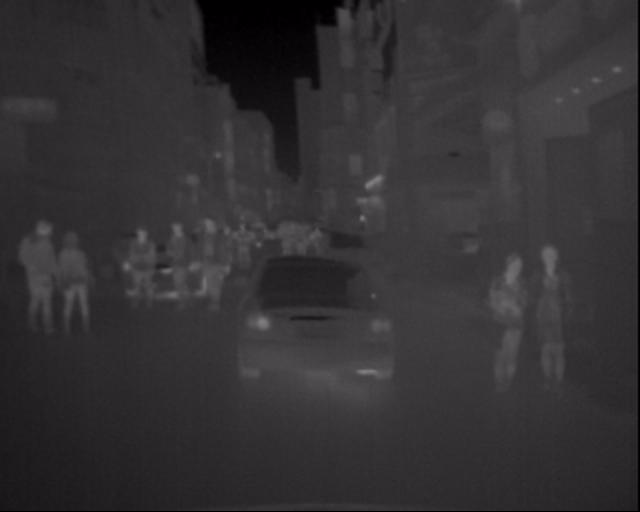person: (536, 240, 588, 405), (495, 249, 532, 407), (3, 224, 40, 344), (204, 214, 239, 312), (42, 234, 71, 342), (126, 228, 160, 315), (168, 219, 192, 311)
